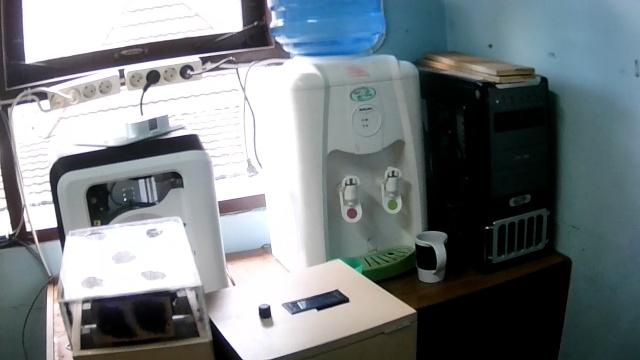Dispenser: (244, 0, 428, 281)
